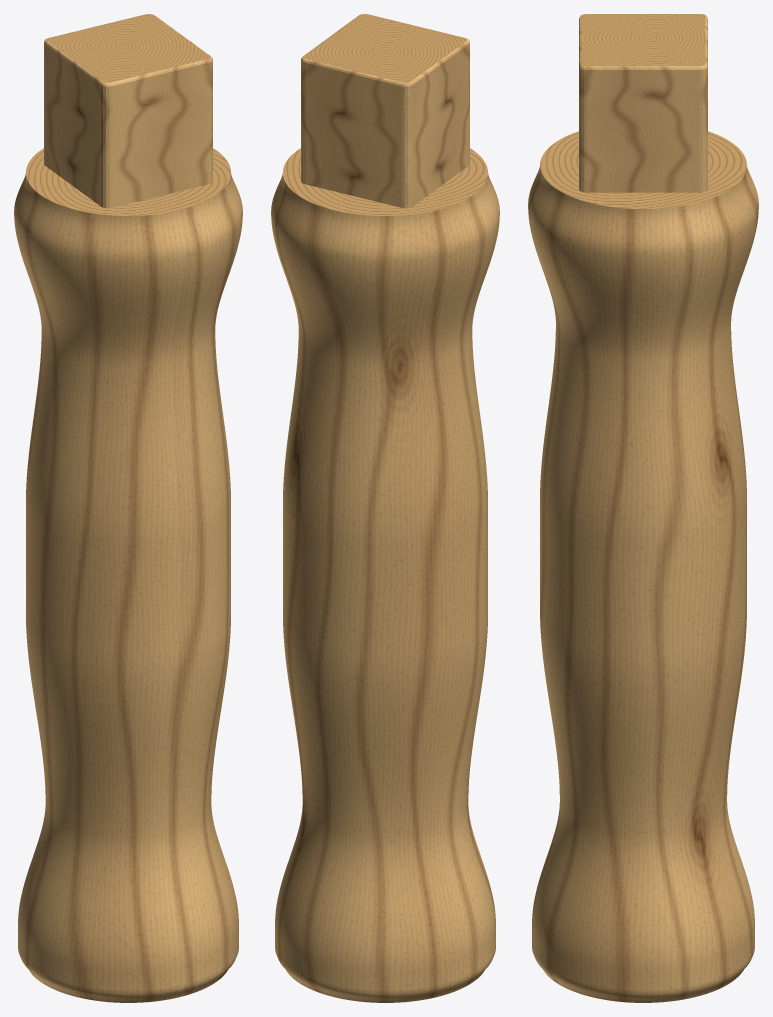
The model's file is palewood_handle.glb.
3 renders of one model, left to right at view 1: azimuth 30°, elevation 25°; view 2: azimuth 150°, elevation 25°; view 3: azimuth 270°, elevation 25°, orthographic.
Visible parts, largest first — view 1: pine worked longitudinal grain, pine endgrain on both sawn ends; view 2: pine worked longitudinal grain, pine endgrain on both sawn ends; view 3: pine worked longitudinal grain, pine endgrain on both sawn ends.
Boxes of the visible parts, box(x1,y1,x2,y2) form: pine worked longitudinal grain: box(14, 14, 242, 1002); pine endgrain on both sawn ends: box(26, 14, 230, 215); pine worked longitudinal grain: box(271, 14, 499, 1002); pine endgrain on both sawn ends: box(283, 14, 487, 215); pine worked longitudinal grain: box(528, 14, 758, 1002); pine endgrain on both sawn ends: box(540, 14, 746, 208).
Size of the model in its own units: 0.058 by 0.2547 by 0.058.
2 materials, 2 textured.
